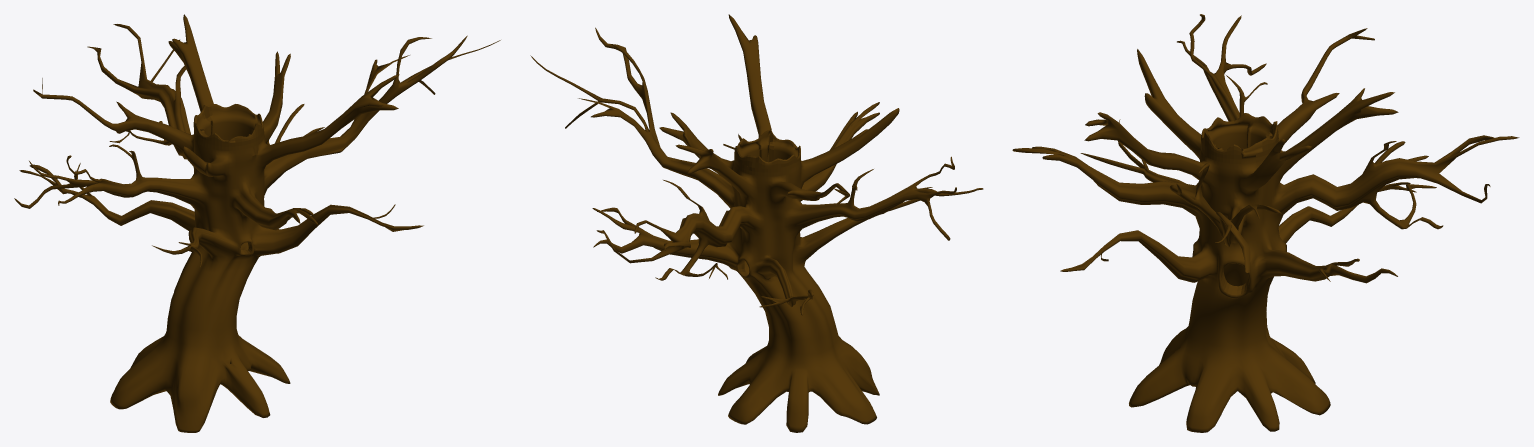
File: spooky tree with holes.fbx
3 views of the same model, side by side, from view 1: azimuth 30°, elevation 25°; view 2: azimuth 150°, elevation 25°; view 3: azimuth 270°, elevation 25° (orthographic). The views are drawn at different scales.
Visible parts, largest first — view 1: tree with holes; view 2: tree with holes; view 3: tree with holes.
Part boxes in pixels (x1,y1,x2,y2): tree with holes: (14, 14, 500, 432); tree with holes: (530, 14, 983, 432); tree with holes: (1012, 14, 1519, 432).
Bounding box in the file's own units: 914 × 627 × 791.
